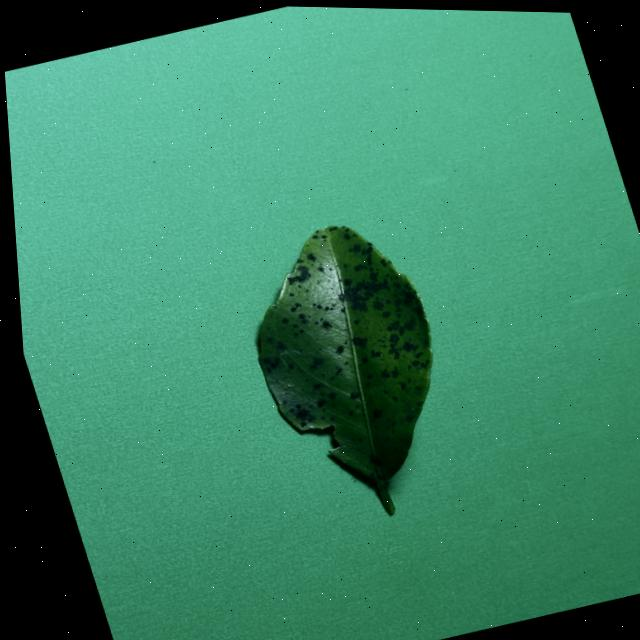sooty_mold: (258, 225, 431, 512)
